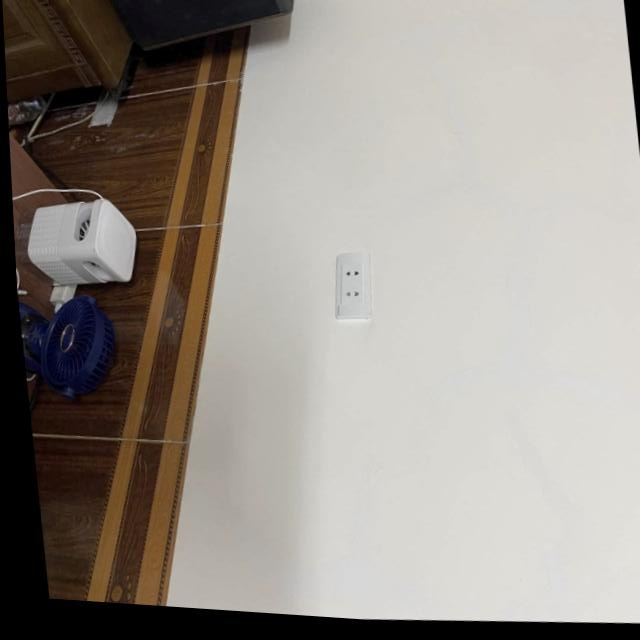outlet: (329, 249, 378, 322)
